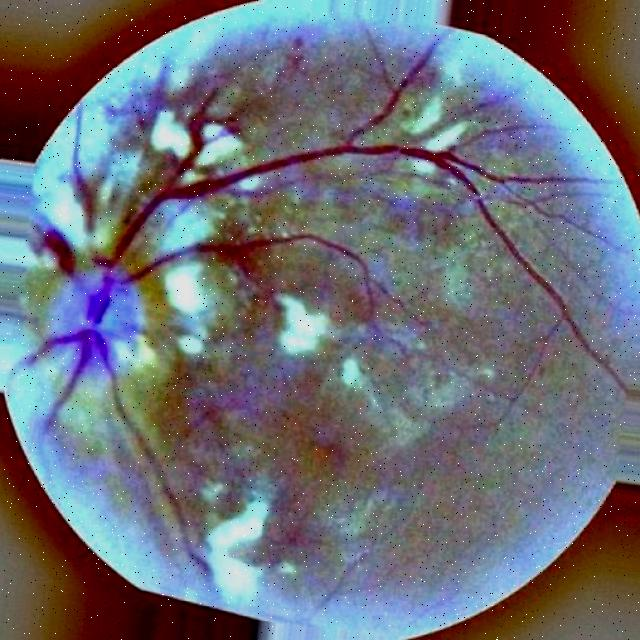Nerves: (23, 56, 593, 578)
Optic Disk: (28, 234, 181, 396)
